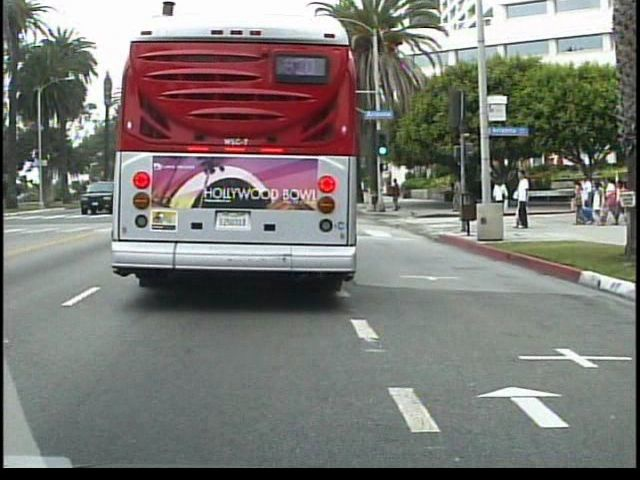person: (514, 167, 536, 231), (492, 174, 513, 216), (388, 176, 409, 216), (451, 176, 464, 213)
